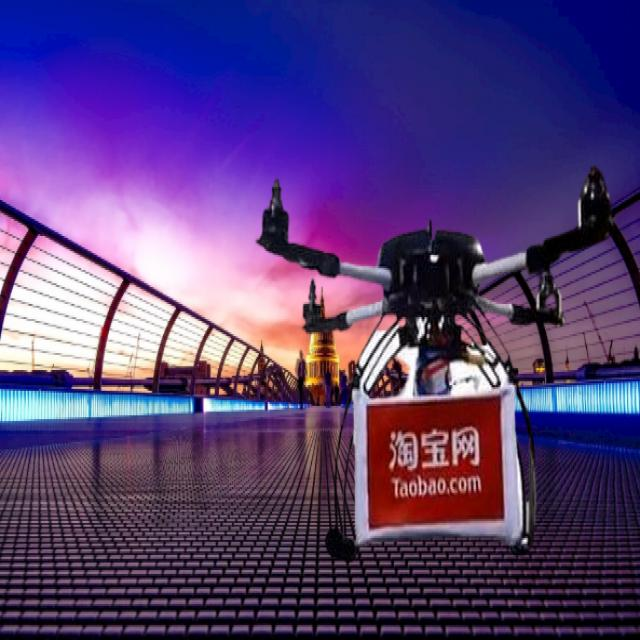drones: (247, 154, 627, 593)
